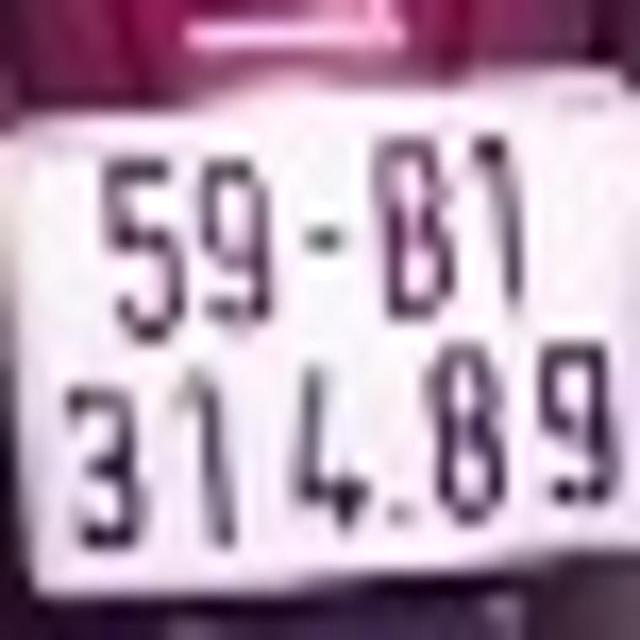1: (174, 363, 243, 550), (470, 127, 530, 313)
3: (60, 377, 145, 554)
4: (291, 360, 370, 534)
5: (98, 150, 190, 347)
8: (429, 335, 510, 529)
9: (534, 331, 621, 512), (197, 151, 275, 344)
B: (372, 127, 459, 322)
